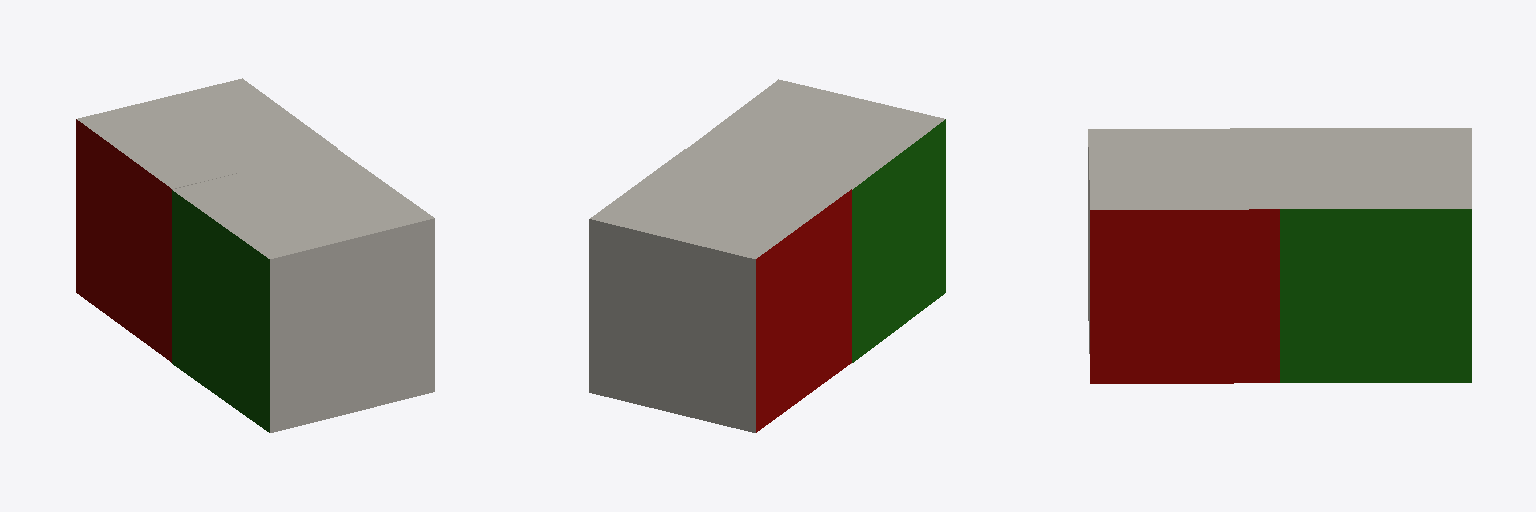
The model's file is TeaSet_v3.obj.
3 renders of one model, left to right at view 1: azimuth 30°, elevation 25°; view 2: azimuth 150°, elevation 25°; view 3: azimuth 270°, elevation 25°, orthographic.
Parts seen in each view (by area): view 1: CornellBox-Empty.001, CornellBox-Empty; view 2: CornellBox-Empty, CornellBox-Empty.001; view 3: CornellBox-Empty, CornellBox-Empty.001.
Boxes of the visible parts, <box> form: CornellBox-Empty.001: <box>172,149,434,432</box>; CornellBox-Empty: <box>76,78,337,362</box>; CornellBox-Empty: <box>589,149,851,432</box>; CornellBox-Empty.001: <box>687,79,945,363</box>; CornellBox-Empty: <box>1280,128,1471,382</box>; CornellBox-Empty.001: <box>1088,128,1279,383</box>.
Bounding box in the file's own units: 10.13 × 10.03 × 20.01.